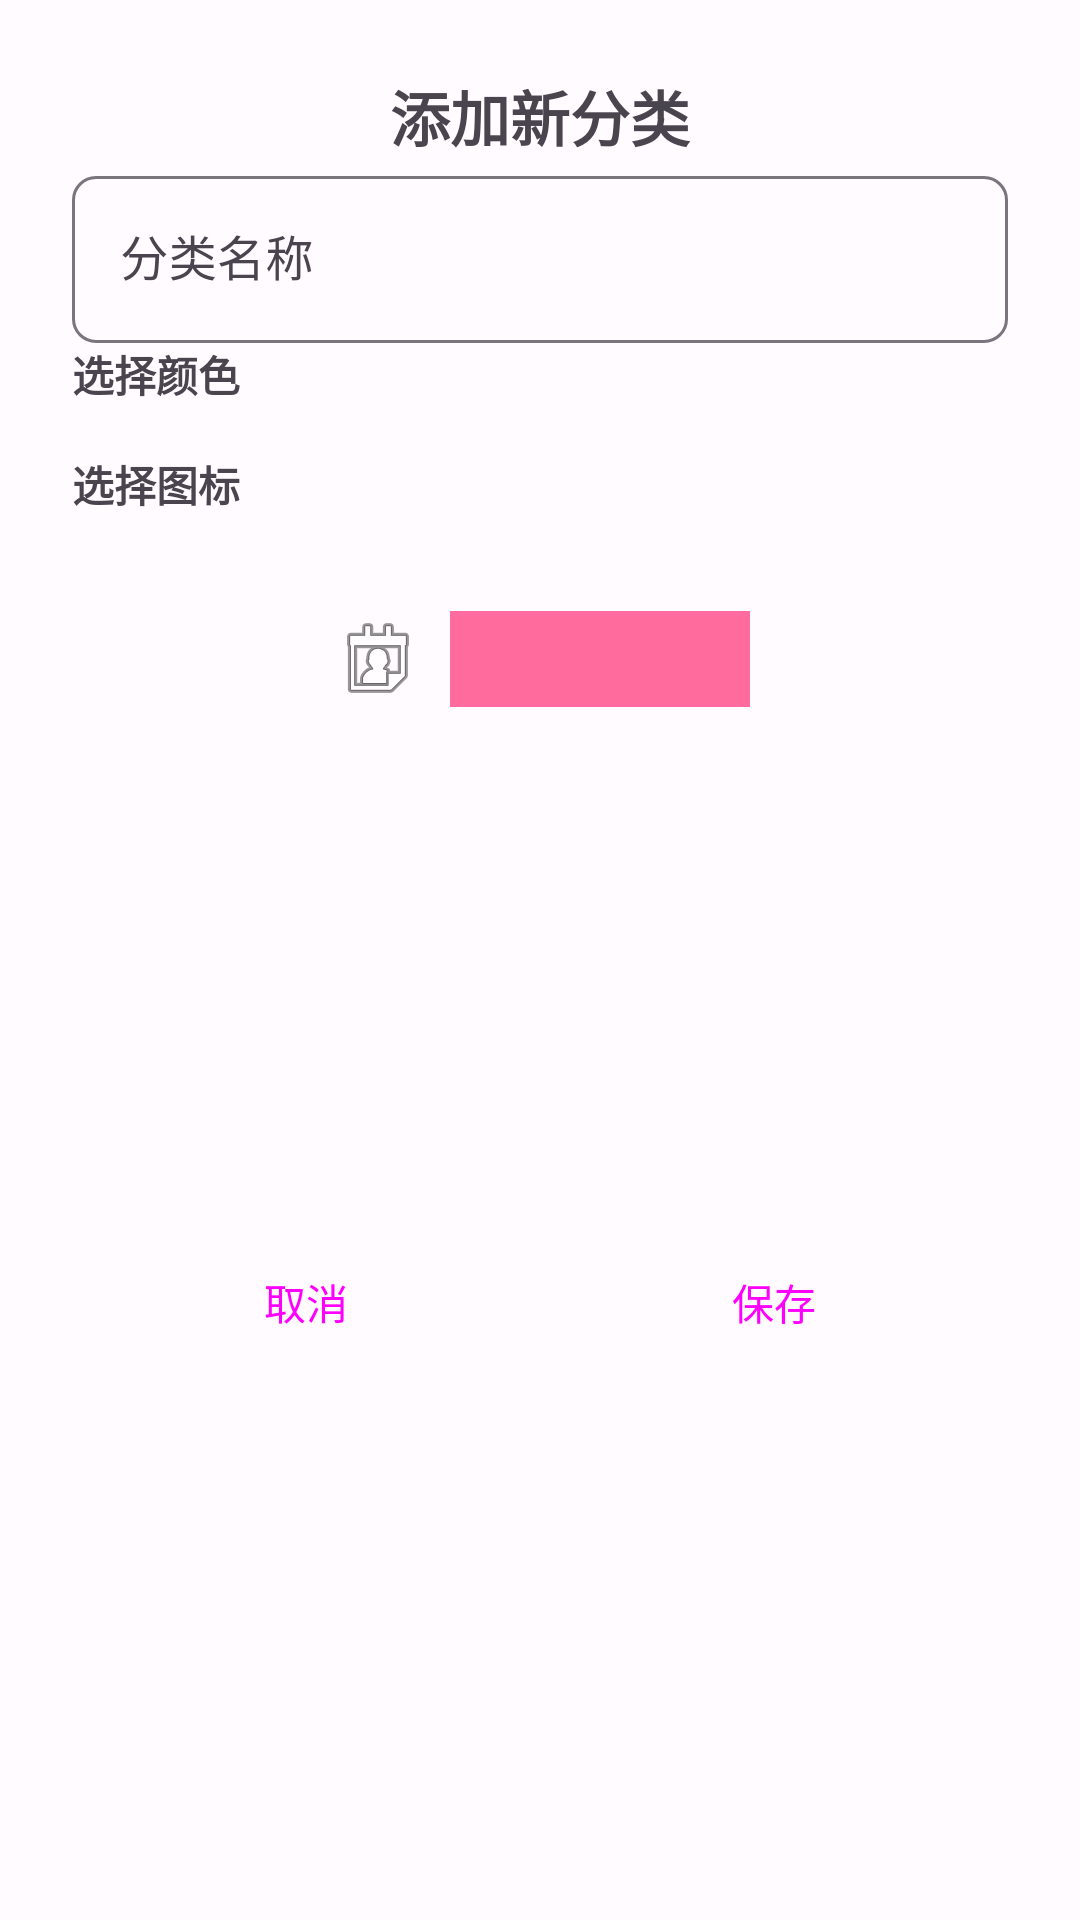

Icon bounding boxes for this 1080w x 1920h phone screenshot, format (x1,y1,x2,y2):
calendar: (347,623,409,693)
